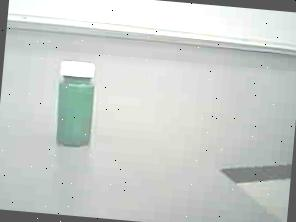Bottle C: (44, 52, 111, 156)
